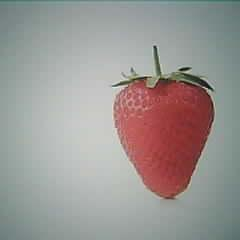straw-ripe: (113, 74, 216, 198)
